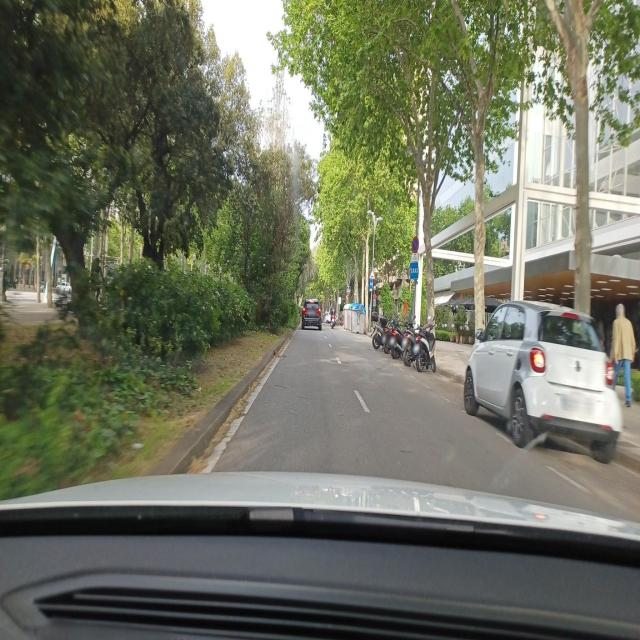forb_stopping: (412, 236, 419, 253)
